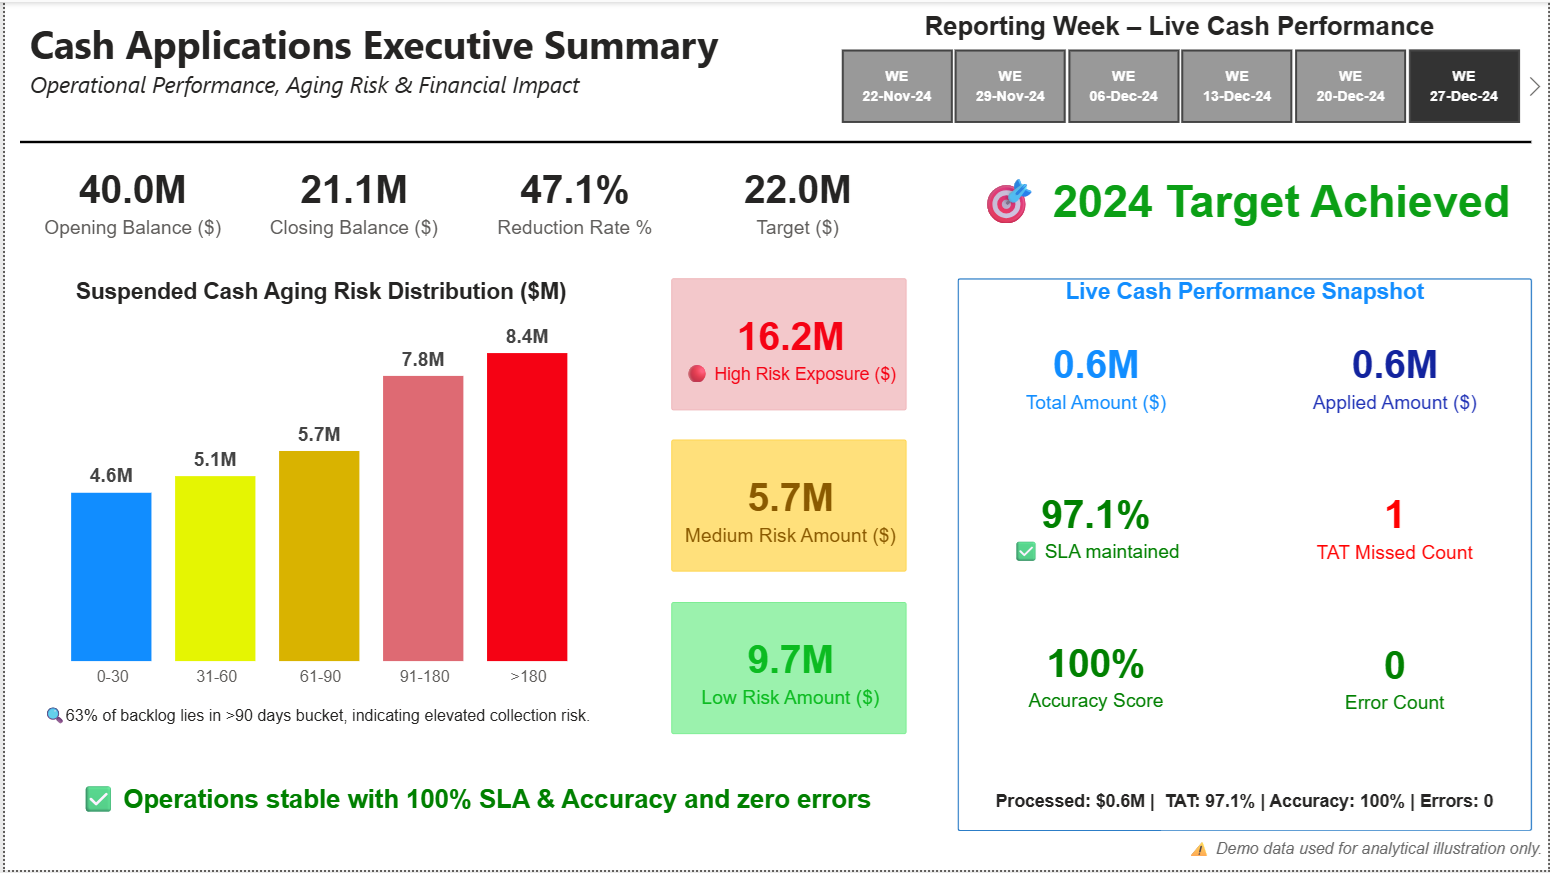

The page's visual inventory and layout, read from the dashboard file:
{"tool":"powerbi","page":{"name":"Executive Summary","canvas":[1280,720],"ordinal":0},"visuals":[{"type":"card","fields":{"Values":["Measures folder.Opening Balance"]},"box":[15.2,122.3,181,82.8],"z":0},{"type":"textbox","box":[15.6,8.3,659.5,95.4],"z":1000},{"type":"card","fields":{"Values":["Measures folder.Target Status"]},"box":[789.8,122.3,476.4,82.8],"z":2000},{"type":"card","fields":{"Values":["Measures folder.Closing Balance"]},"box":[199.2,122.3,180.9,82.8],"z":3000},{"type":"card","fields":{"Values":["Measures folder.Resolution Rate %"]},"box":[383,122.3,180.9,82.8],"z":4000},{"type":"card","fields":{"Values":["Measures folder.Target"]},"box":[566.9,122.3,180.9,82.8],"z":5000},{"type":"shape","box":[12.4,109.9,1253.6,12.4],"z":6000},{"type":"clusteredColumnChart","title":"Suspended Cash Aging Risk Distribution ($M)","fields":{"Category":["Suspended_cash_data.Aging Bucket"],"Y":["Measures folder.Aging Amount"]},"box":[15.3,229.3,493,347.8],"z":7000},{"type":"card","fields":{"Values":["Measures folder.High Risk Amount"]},"box":[552.3,229.1,195.3,109.3],"z":8000},{"type":"card","fields":{"Values":["Measures folder.Medium Risk Amount"]},"box":[552.3,363.4,195.3,109.3],"z":9000},{"type":"card","fields":{"Values":["Measures folder.Low Risk Amount"]},"box":[552.3,497.7,195.3,109.3],"z":10000},{"type":"shape","title":"Live Cash Performance Snapshot","box":[789.8,229.3,476.4,458.6],"z":11000},{"type":"card","fields":{"Values":["Measures folder.Total Amount"]},"box":[815.2,267.4,180.2,82.6],"z":12000},{"type":"card","fields":{"Values":["Measures folder.Applied Amount"]},"box":[1063.1,267.4,180.2,82.6],"z":13000},{"type":"card","fields":{"Values":["Measures folder.TAT %"]},"box":[815.2,391.6,180.2,82.6],"z":14000},{"type":"card","fields":{"Values":["Measures folder.Accuracy % Live"]},"box":[815.2,515.8,180.2,82.6],"z":15000},{"type":"card","fields":{"Values":["Measures folder.TAT Missed Count"]},"box":[1063.1,391.9,180.2,82.6],"z":16000},{"type":"card","fields":{"Values":["Measures folder.Error Count"]},"box":[1063.1,516.3,180.2,83.7],"z":17000},{"type":"slicer","title":"Reporting Week – Live Cash Performance","fields":{"Values":["Dim_Date.Week Label"]},"box":[667.4,8.3,612.5,99.3],"z":18000},{"type":"textbox","box":[959.2,687.9,321,31.8],"z":19000},{"type":"card","fields":{"Values":["Measures folder.Insight Text"]},"box":[789.8,642,476.4,45.9],"z":20000},{"type":"card","fields":{"Values":["Measures folder.Action Required Text"]},"box":[34.4,635.7,713.4,52.2],"z":21000},{"type":"card","fields":{"Values":["Measures folder.TAT Status"]},"box":[798.7,442,214,31.8],"z":22000},{"type":"textbox","box":[12.7,577.1,493,30.6],"z":23000}]}

Visuals, with their boxes in screenshot pixels (x1, y1, x2, y2), scaled from the page's 1280x720 canvas onto the 1550x873 screenshot:
card - Measures folder.Opening Balance: bbox=(18, 148, 238, 249)
textbox: bbox=(19, 10, 818, 126)
card - Measures folder.Target Status: bbox=(956, 148, 1533, 249)
card - Measures folder.Closing Balance: bbox=(241, 148, 460, 249)
card - Measures folder.Resolution Rate %: bbox=(464, 148, 683, 249)
card - Measures folder.Target: bbox=(686, 148, 906, 249)
shape: bbox=(15, 133, 1533, 148)
"Suspended Cash Aging Risk Distribution ($M)" clusteredColumnChart: bbox=(19, 278, 616, 700)
card - Measures folder.High Risk Amount: bbox=(669, 278, 905, 410)
card - Measures folder.Medium Risk Amount: bbox=(669, 441, 905, 573)
card - Measures folder.Low Risk Amount: bbox=(669, 603, 905, 736)
"Live Cash Performance Snapshot" shape: bbox=(956, 278, 1533, 834)
card - Measures folder.Total Amount: bbox=(987, 324, 1205, 424)
card - Measures folder.Applied Amount: bbox=(1287, 324, 1506, 424)
card - Measures folder.TAT %: bbox=(987, 475, 1205, 575)
card - Measures folder.Accuracy % Live: bbox=(987, 625, 1205, 726)
card - Measures folder.TAT Missed Count: bbox=(1287, 475, 1506, 575)
card - Measures folder.Error Count: bbox=(1287, 626, 1506, 728)
"Reporting Week – Live Cash Performance" slicer: bbox=(808, 10, 1549, 130)
textbox: bbox=(1162, 834, 1549, 872)
card - Measures folder.Insight Text: bbox=(956, 778, 1533, 834)
card - Measures folder.Action Required Text: bbox=(42, 771, 906, 834)
card - Measures folder.TAT Status: bbox=(967, 536, 1226, 574)
textbox: bbox=(15, 700, 612, 737)
